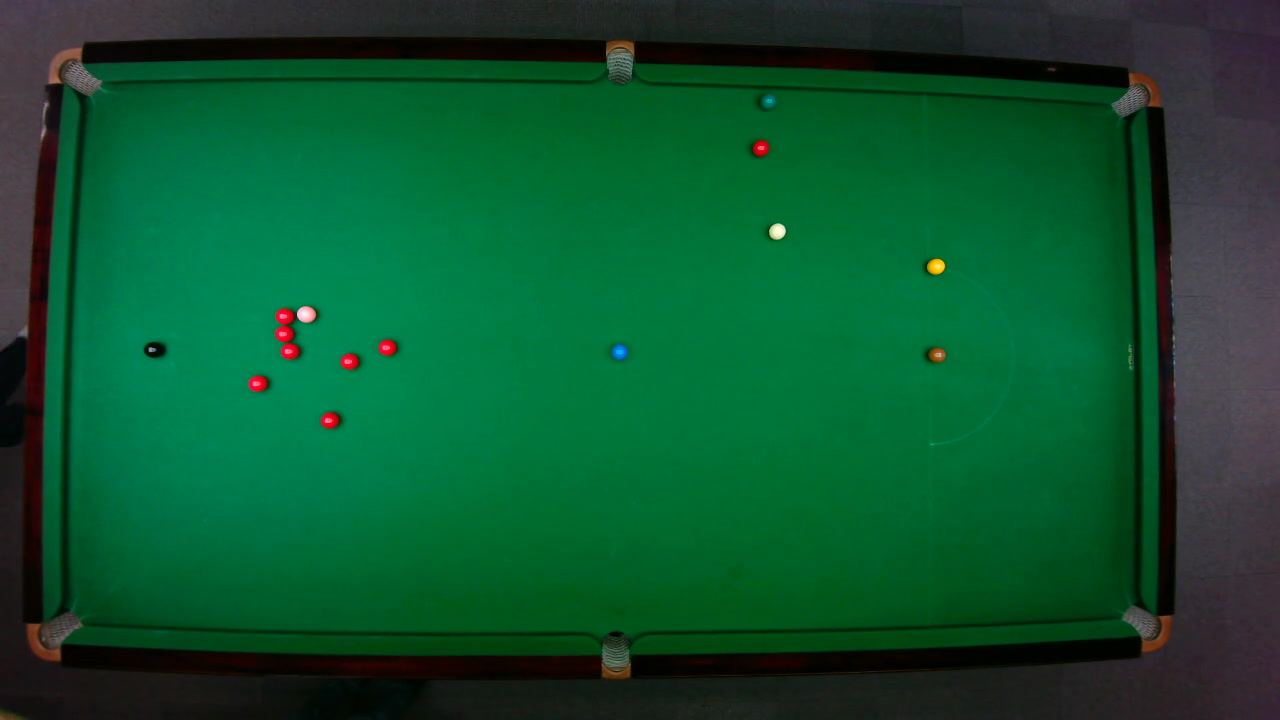bag: (25, 609, 84, 662), (45, 46, 102, 96), (1119, 603, 1172, 652), (1108, 71, 1161, 117), (600, 629, 630, 680), (605, 38, 633, 85)
black: (142, 340, 164, 358)
blue: (610, 342, 628, 360)
brown: (926, 346, 946, 362)
green: (759, 92, 776, 110)
pink: (294, 304, 317, 323)
red: (246, 373, 269, 392), (318, 410, 340, 429), (750, 138, 770, 157), (338, 351, 359, 369), (273, 306, 294, 324), (278, 342, 300, 359), (272, 325, 294, 342), (377, 338, 397, 356)
white: (767, 222, 786, 240)
yellow: (925, 257, 946, 274)
zone: (927, 266, 1013, 445)
